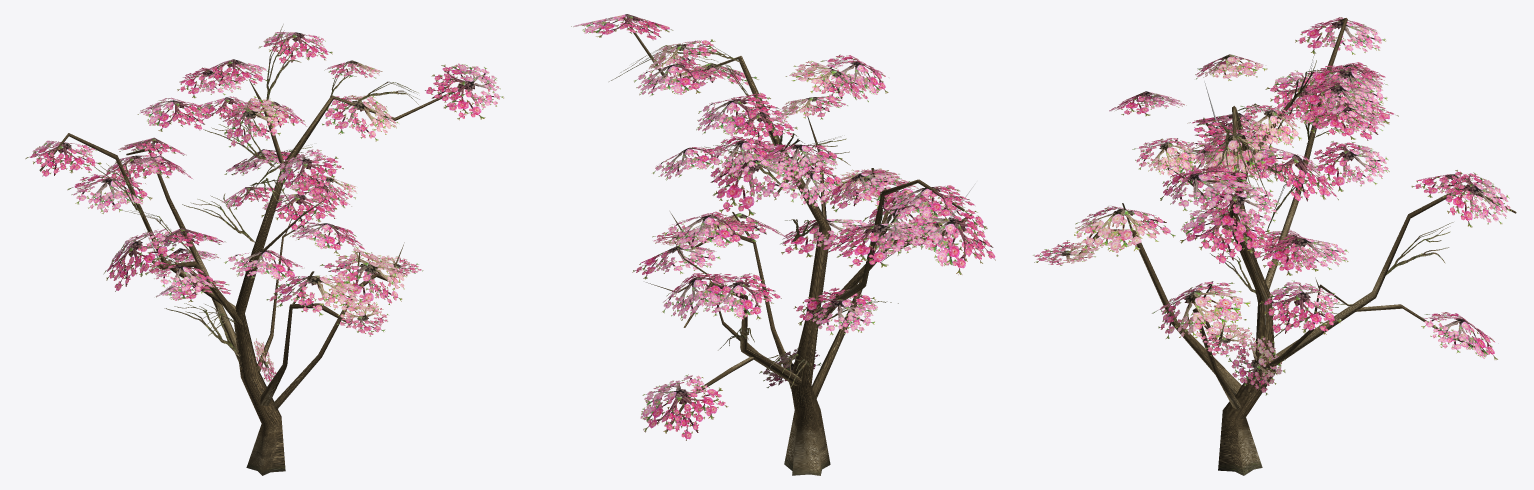
File: tree2.glb
The picture shows the model from 3 angles, left to right: view 1: azimuth 30°, elevation 25°; view 2: azimuth 150°, elevation 25°; view 3: azimuth 270°, elevation 25°; orthographic projection. The views are drawn at different scales.
Parts seen in each view (by area): view 1: shumu_b6_001.1; view 2: shumu_b6_001.1; view 3: shumu_b6_001.1.
Part boxes in pixels (x1=…): shumu_b6_001.1: x1=25, y1=24, x2=503, y2=475; shumu_b6_001.1: x1=571, y1=14, x2=995, y2=475; shumu_b6_001.1: x1=1033, y1=17, x2=1516, y2=475.
Bounding box in the file's own units: 4.33 × 3.82 × 3.89.
Materials: 1 (1 with a texture image).
